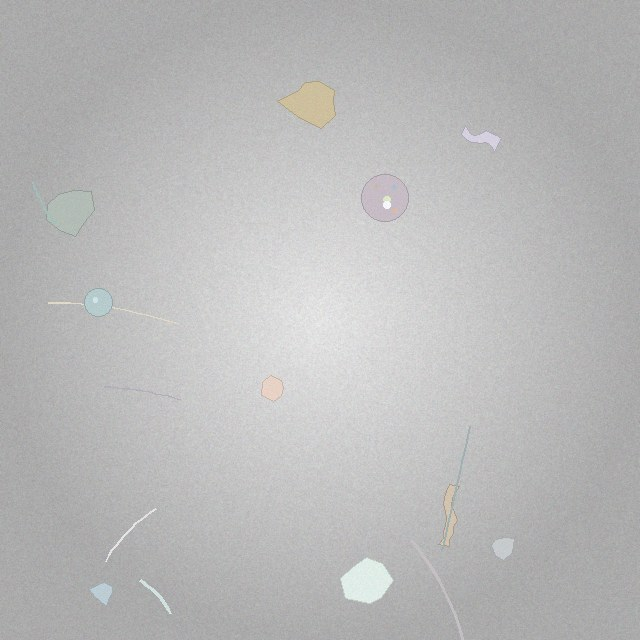fiber: (408, 537, 467, 639), (439, 424, 472, 553), (46, 300, 181, 326), (103, 507, 157, 563), (137, 578, 174, 617), (102, 384, 183, 401), (30, 180, 57, 226)
film: (438, 485, 460, 546), (461, 126, 501, 153)
foam: (361, 175, 409, 222)
fragment: (278, 81, 335, 129), (340, 558, 393, 603), (46, 190, 94, 237), (262, 376, 284, 401), (90, 583, 112, 607), (492, 538, 515, 560)
pellet: (85, 289, 113, 317)
